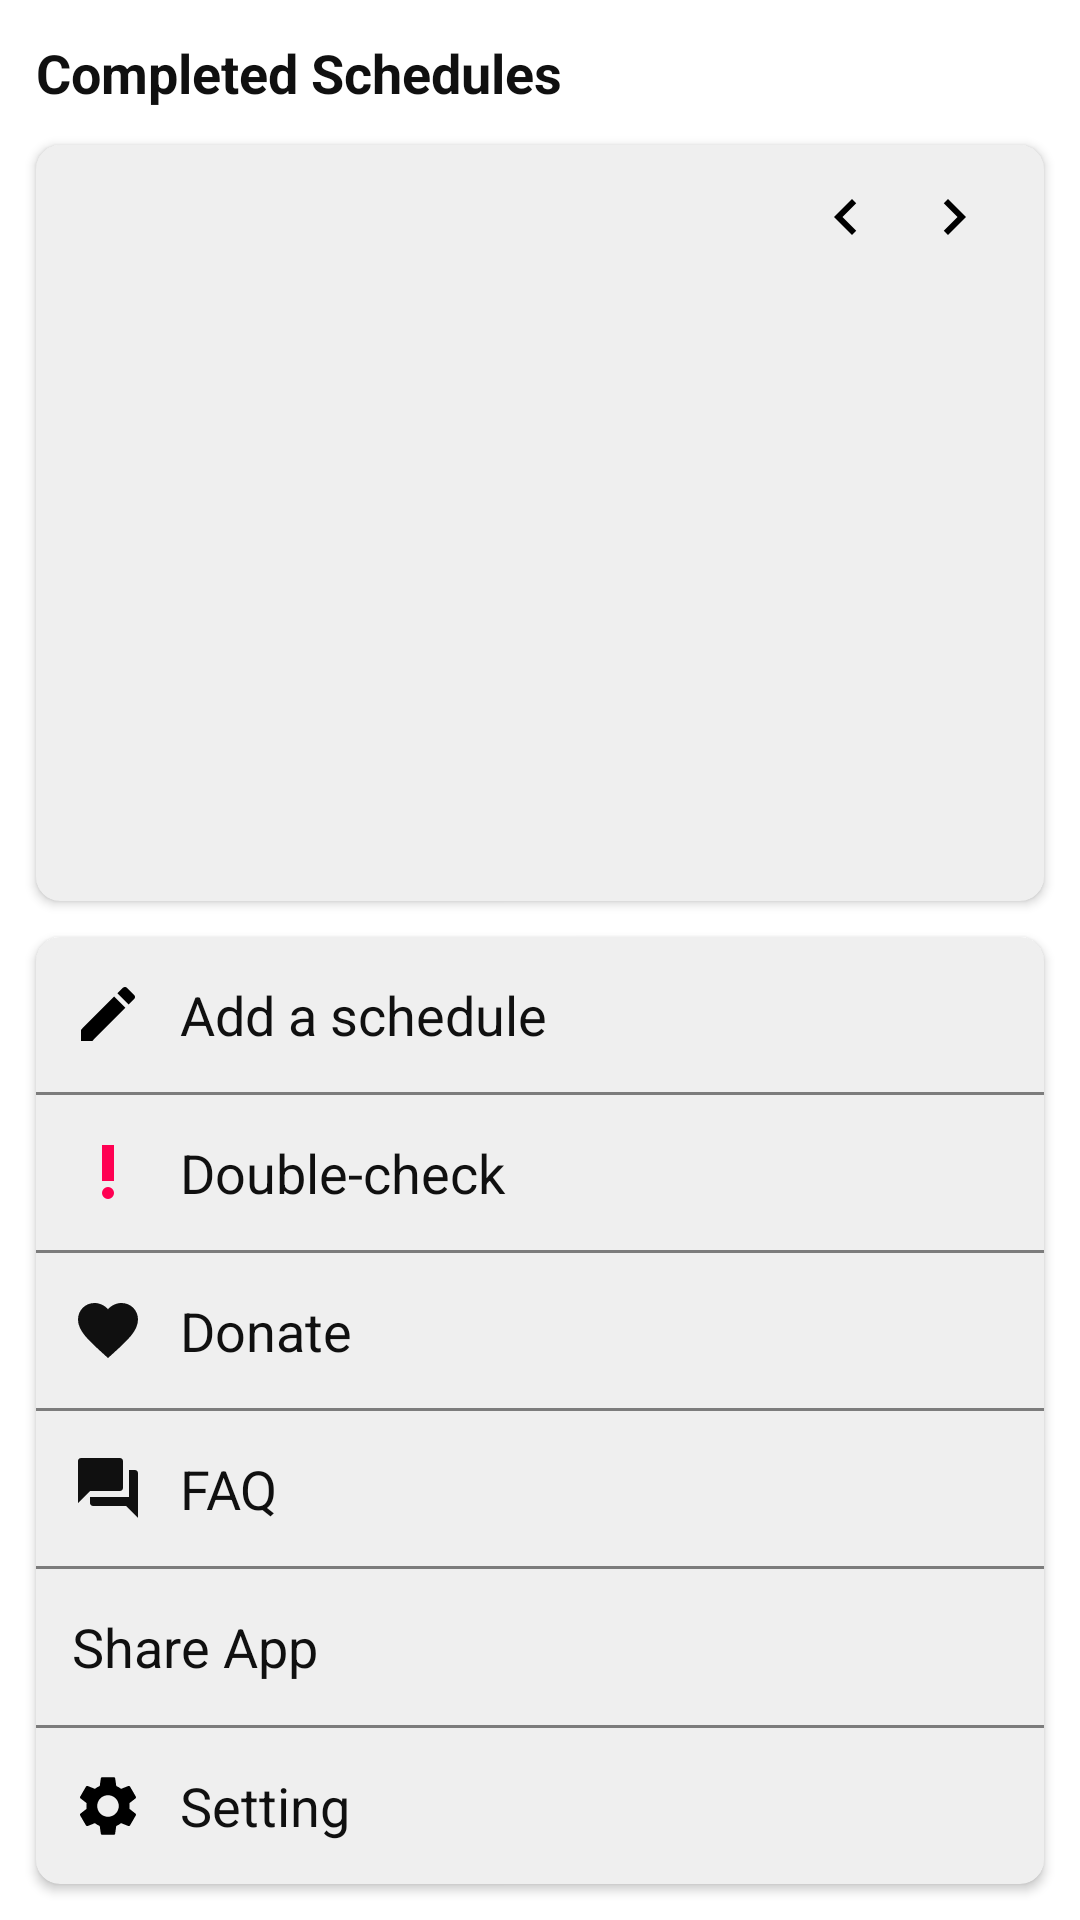

Named icons in this screenshot (1080 × 1920) and their bounding boxes, (left=x1, top=y1, right=x2, bottom=y2):
chevron left: (left=834, top=199, right=856, bottom=235)
chevron right: (left=944, top=199, right=966, bottom=235)
